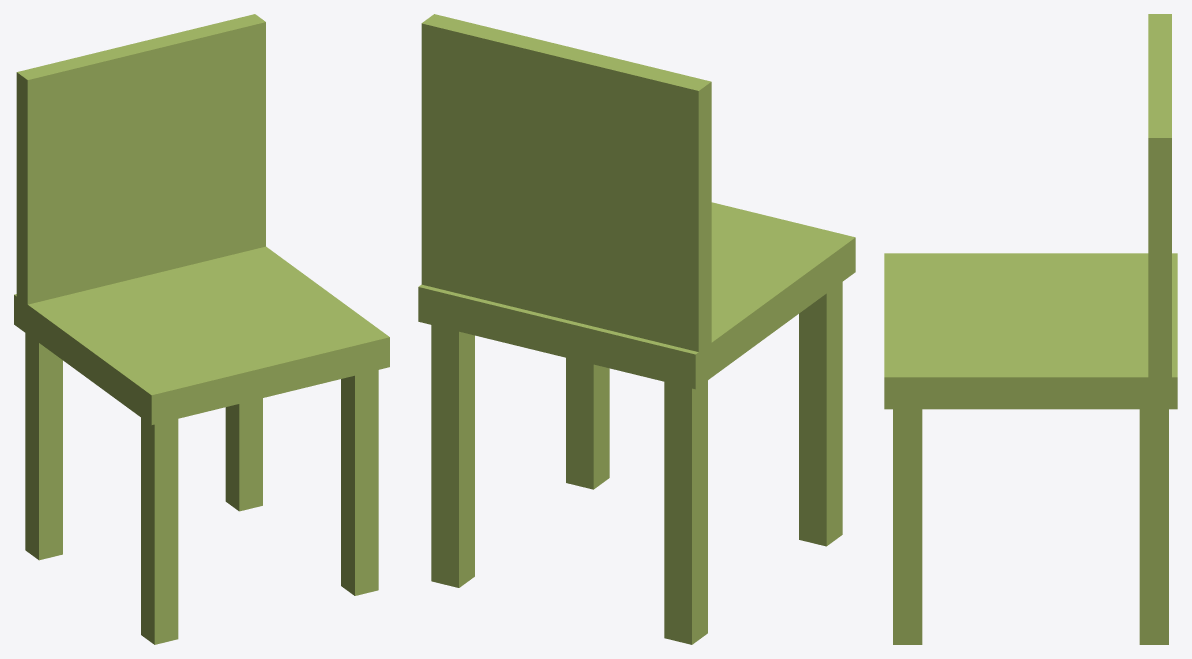
File: chair.glb
3 renders of one model, left to right at view 1: azimuth 30°, elevation 25°; view 2: azimuth 150°, elevation 25°; view 3: azimuth 270°, elevation 25°, orthographic. The views are drawn at different scales.
Parts seen in each view (by area): view 1: mesh_5, mesh_0, mesh_3, mesh_4, mesh_1, mesh_2; view 2: mesh_5, mesh_0, mesh_1, mesh_2, mesh_3, mesh_4; view 3: mesh_0, mesh_5, mesh_2, mesh_4.
Boxes of the visible parts, left/top/right/bottom form: mesh_5: left=16, top=14, right=265, bottom=304; mesh_0: left=14, top=246, right=389, bottom=425; mesh_3: left=141, top=418, right=178, bottom=644; mesh_4: left=341, top=370, right=378, bottom=595; mesh_1: left=25, top=333, right=62, bottom=560; mesh_2: left=225, top=398, right=262, bottom=511; mesh_5: left=421, top=14, right=711, bottom=351; mesh_0: left=418, top=202, right=855, bottom=389; mesh_1: left=664, top=380, right=707, bottom=644; mesh_2: left=431, top=325, right=474, bottom=587; mesh_3: left=799, top=282, right=842, bottom=546; mesh_4: left=566, top=358, right=609, bottom=489; mesh_0: left=884, top=253, right=1177, bottom=409; mesh_5: left=1148, top=14, right=1171, bottom=377; mesh_2: left=1139, top=409, right=1168, bottom=644; mesh_4: left=893, top=409, right=922, bottom=644.
Bounding box in the file's own units: 0.5 × 0.96 × 0.5.
